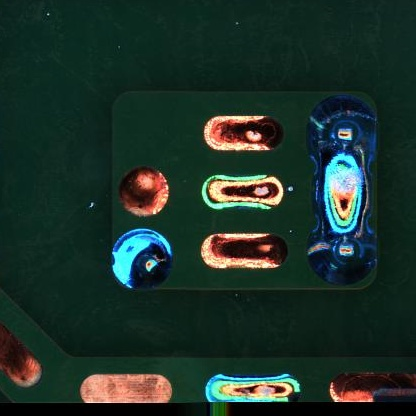spot: (307, 94, 380, 168), (306, 219, 379, 285), (110, 229, 172, 290)
